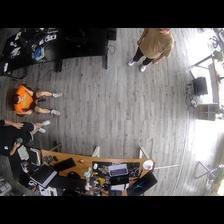normal: (128, 28, 176, 73), (9, 83, 63, 116)
